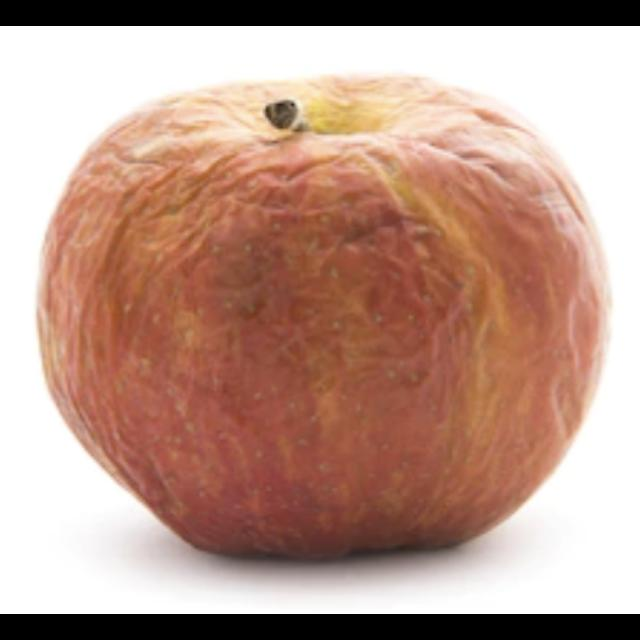Apel Tidak Segar: (6, 45, 626, 581)
